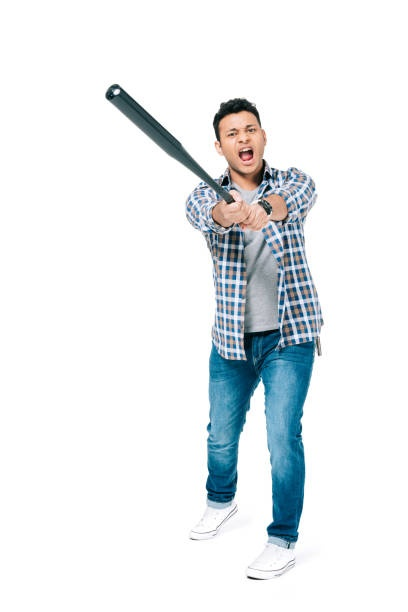bita: (111, 88, 239, 209)
